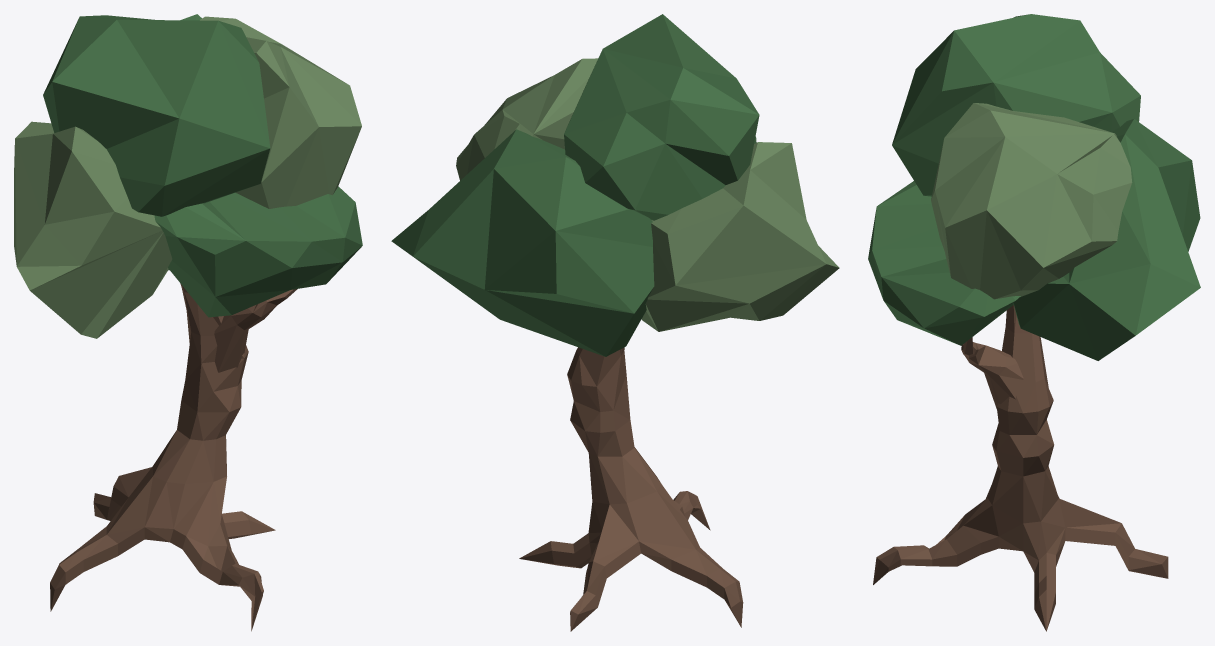
Rendered from _tree_2.fbx.
3 renders of one model, left to right at view 1: azimuth 30°, elevation 25°; view 2: azimuth 150°, elevation 25°; view 3: azimuth 270°, elevation 25°, orthographic. The views are drawn at different scales.
Parts seen in each view (by area): view 1: tree_2; view 2: tree_2; view 3: tree_2.
Part boxes in pixels (x1,y1,x2,y2): tree_2: (14, 14, 362, 631); tree_2: (391, 14, 839, 631); tree_2: (868, 14, 1200, 631).
Bounding box in the file's own units: 419 × 618 × 326.
